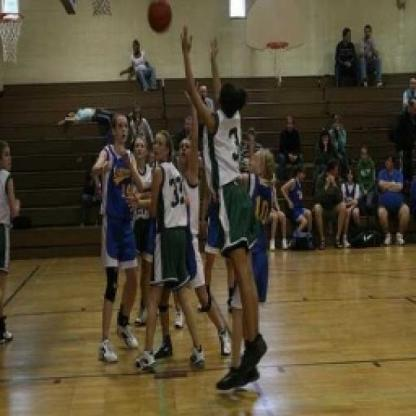basketball: (145, 0, 176, 36)
